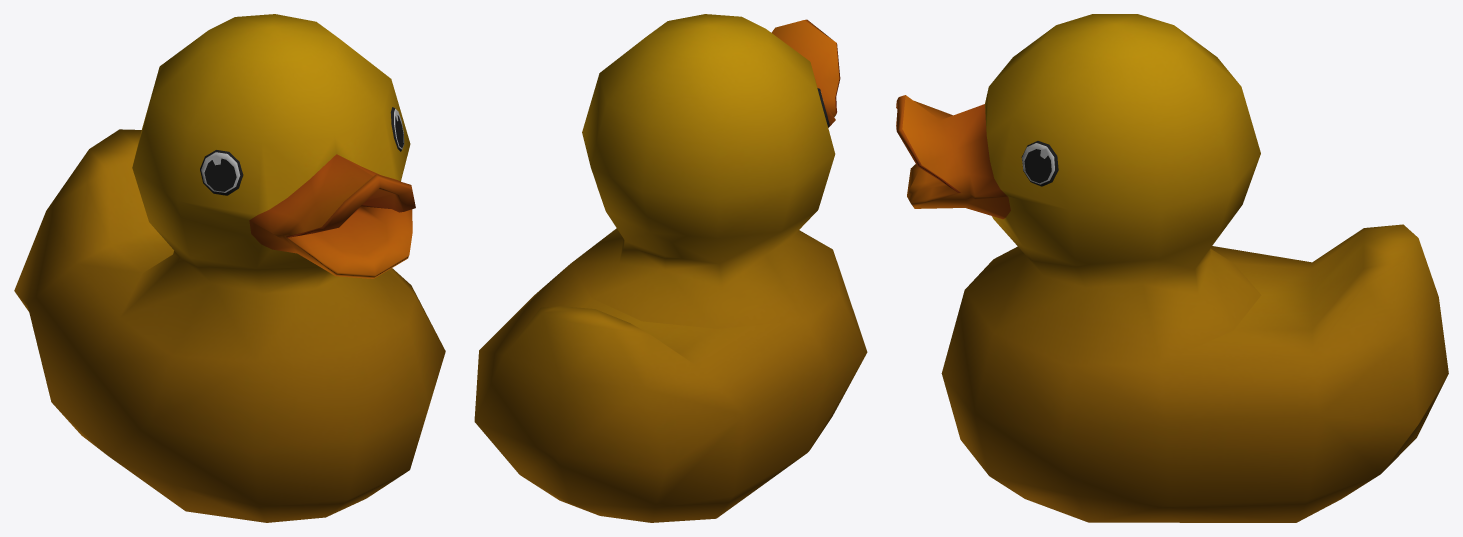
The model's file is ducky-pet.gltf.
3 views of the same model, side by side, from view 1: azimuth 30°, elevation 25°; view 2: azimuth 150°, elevation 25°; view 3: azimuth 270°, elevation 25° (orthographic). The views are drawn at different scales.
Parts seen in each view (by area): view 1: Ducky; view 2: Ducky; view 3: Ducky.
Part boxes in pixels (left/top/right/bottom): Ducky: left=14, top=14, right=445, bottom=522; Ducky: left=474, top=14, right=867, bottom=522; Ducky: left=896, top=14, right=1448, bottom=522.
Bounding box in the file's own units: 0.2412 × 0.3203 × 0.3568.
1 material, 1 textured.
